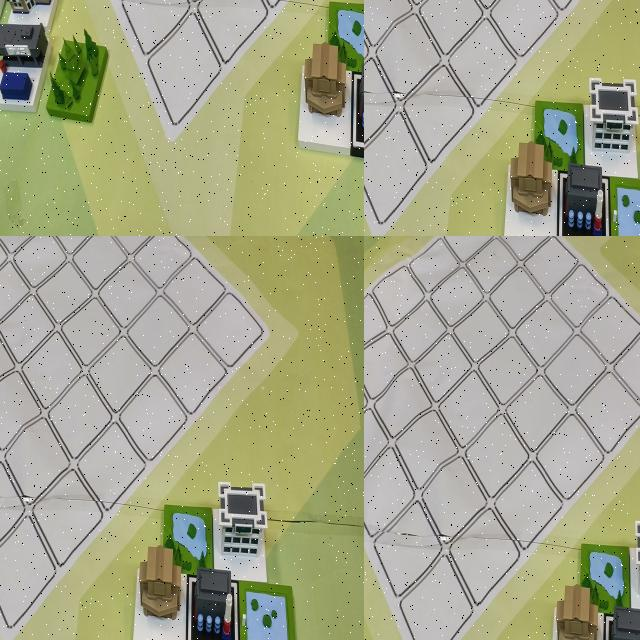bus_stop: (247, 0, 307, 47), (364, 562, 393, 640)
factory: (470, 74, 537, 192), (121, 0, 180, 91), (403, 0, 464, 46), (603, 593, 640, 640)
fish_pool: (268, 100, 327, 209), (537, 0, 600, 44)
forest: (397, 86, 467, 194), (115, 0, 177, 46), (364, 570, 393, 640)
gogo_shop: (400, 0, 461, 84), (184, 0, 247, 52), (364, 490, 389, 578), (0, 573, 21, 640)
research_build: (254, 0, 319, 73), (217, 556, 269, 640), (470, 0, 527, 44)
restaurant: (473, 0, 541, 79), (194, 0, 258, 81), (364, 470, 394, 563), (0, 569, 24, 640)
silicate_rock: (434, 143, 498, 236), (70, 0, 136, 54), (364, 574, 383, 640)
volunteer_center: (364, 80, 397, 184), (114, 0, 175, 50), (552, 583, 605, 640)
wet_land: (151, 552, 201, 640), (580, 536, 631, 615), (364, 0, 396, 86), (175, 0, 232, 43)
